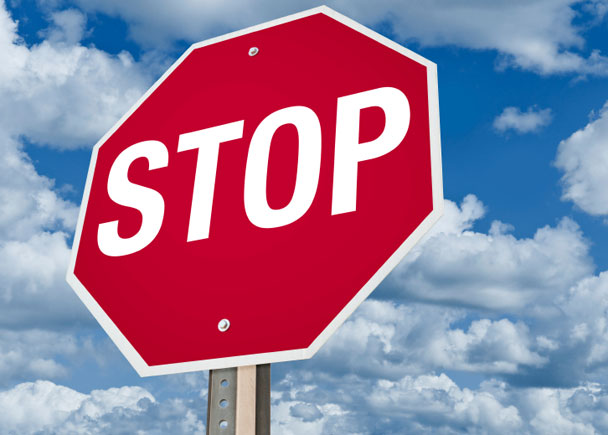stopsign: (64, 8, 441, 375)
